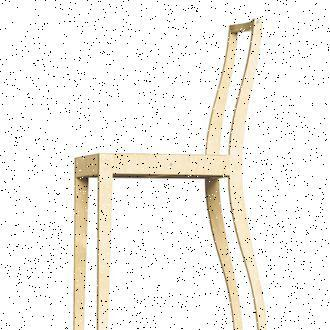Silla: (62, 17, 272, 329)
